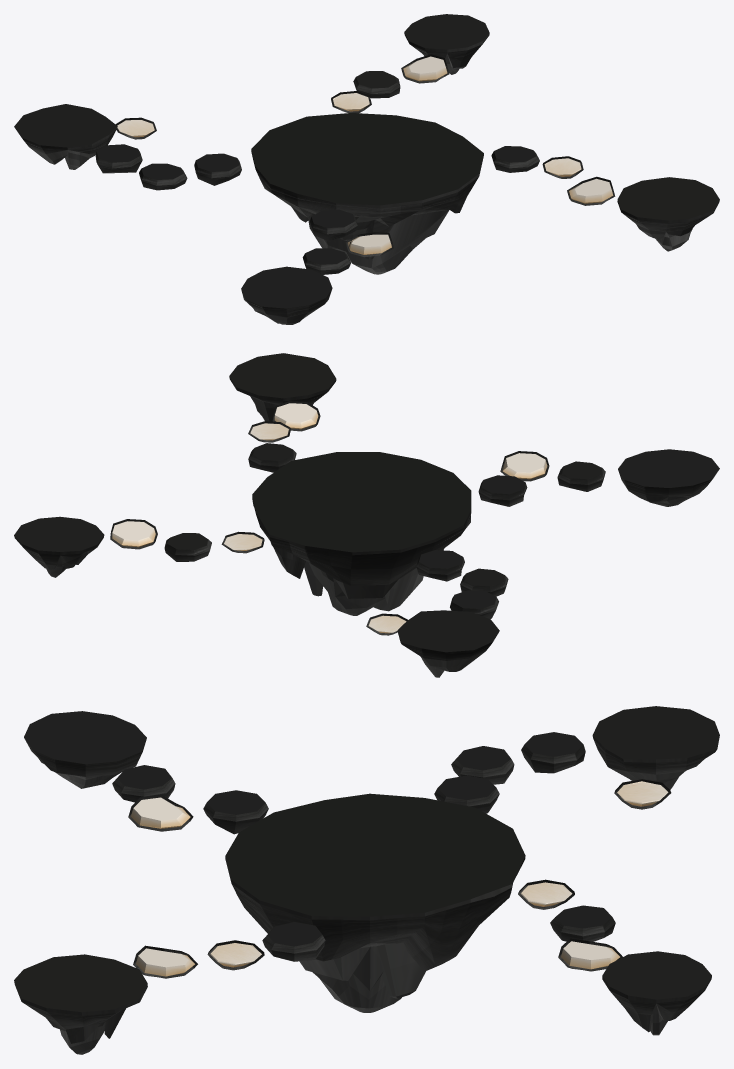
File: islands_set.obj
The picture shows the model from 3 angles, top to bottom: view 1: azimuth 30°, elevation 25°; view 2: azimuth 150°, elevation 25°; view 3: azimuth 270°, elevation 25°; orthographic projection. The views are drawn at different scales.
Parts seen in each view (by area): view 1: island.main, island.sub.003, island.sub.002, step.001, island.sub.004, step.003, island.sub.001, step.002, step.004; view 2: island.main, island.sub.002, island.sub.003, step.001, island.sub.004, island.sub.001, step.002, step.003, step.004; view 3: island.main, island.sub.003, island.sub.002, step.001, island.sub.004, island.sub.001, step.003, step.002, step.004.
Part boxes in pixels (x1,y1,x2,y2): island.main: (251,113,483,274); island.sub.003: (617,177,719,251); island.sub.002: (14,104,117,169); step.001: (139,71,539,274); island.sub.004: (241,266,332,324); step.003: (95,144,357,241); island.sub.001: (404,14,489,74); step.002: (345,54,615,257); step.004: (115,91,583,178); island.main: (252,452,471,615); island.sub.002: (397,610,499,677); island.sub.003: (229,353,336,421); step.001: (164,443,605,596); island.sub.004: (618,449,719,506); island.sub.001: (14,516,104,577); step.002: (110,401,549,549); step.003: (416,475,527,618); step.004: (221,421,407,635); island.main: (225,793,525,1012); island.sub.003: (14,954,147,1054); island.sub.002: (592,706,719,789); step.001: (112,746,615,961); island.sub.004: (24,711,146,788); island.sub.001: (602,951,711,1035); step.003: (203,732,585,834); step.002: (128,794,622,978); step.004: (207,779,671,970).
Bounding box in the file's own units: 49.63 × 11.46 × 49.32.
